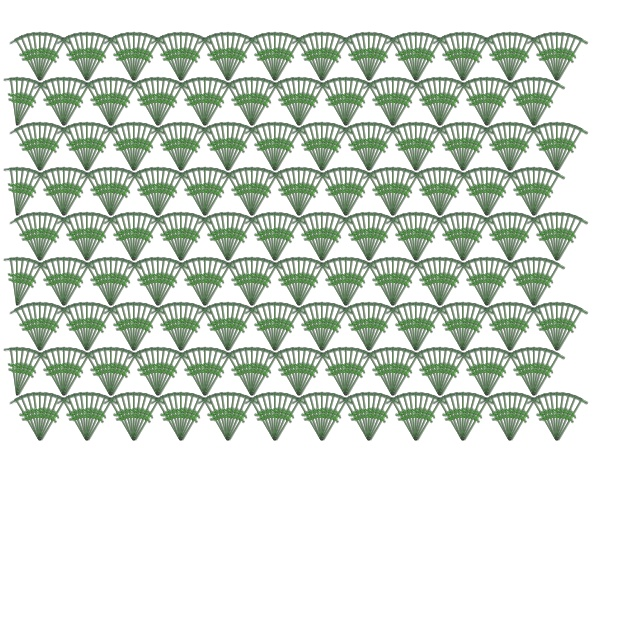fan: (8, 34, 47, 86), (33, 34, 72, 86), (55, 34, 94, 86), (80, 34, 119, 86), (102, 34, 141, 86), (127, 34, 166, 86), (149, 34, 188, 86), (174, 34, 213, 86), (196, 34, 235, 86), (221, 34, 260, 86), (243, 34, 282, 86), (268, 34, 307, 86), (290, 34, 329, 86), (315, 34, 354, 86), (337, 34, 376, 86), (362, 34, 401, 86), (384, 34, 423, 86), (409, 34, 448, 86), (431, 34, 470, 86), (456, 34, 495, 86), (478, 34, 517, 86), (503, 34, 542, 86), (525, 34, 564, 86), (550, 34, 589, 86), (10, 79, 49, 131), (32, 79, 71, 131), (57, 79, 96, 131), (79, 79, 118, 131), (104, 79, 143, 131), (126, 79, 165, 131), (151, 79, 190, 131), (173, 79, 212, 131), (198, 79, 237, 131), (220, 79, 259, 131), (245, 79, 284, 131), (267, 79, 306, 131), (292, 79, 331, 131), (314, 79, 353, 131), (339, 79, 378, 131), (361, 79, 400, 131), (386, 79, 425, 131), (408, 79, 447, 131), (433, 79, 472, 131), (455, 79, 494, 131), (480, 79, 519, 131), (502, 79, 541, 131), (527, 79, 566, 131), (8, 124, 47, 176), (33, 124, 72, 176), (55, 124, 94, 176), (80, 124, 119, 176), (102, 124, 141, 176), (127, 124, 166, 176), (149, 124, 188, 176), (174, 124, 213, 176), (196, 124, 235, 176), (221, 124, 260, 176), (243, 124, 282, 176), (268, 124, 307, 176), (290, 124, 329, 176), (315, 124, 354, 176), (337, 124, 376, 176), (362, 124, 401, 176), (384, 124, 423, 176), (409, 124, 448, 176), (431, 124, 470, 176), (456, 124, 495, 176), (478, 124, 517, 176), (503, 124, 542, 176), (525, 124, 564, 176), (550, 124, 589, 176), (10, 169, 49, 221), (32, 169, 71, 221), (57, 169, 96, 221), (79, 169, 118, 221), (104, 169, 143, 221), (126, 169, 165, 221), (151, 169, 190, 221), (173, 169, 212, 221), (198, 169, 237, 221), (220, 169, 259, 221), (245, 169, 284, 221), (267, 169, 306, 221), (292, 169, 331, 221), (314, 169, 353, 221), (339, 169, 378, 221), (361, 169, 400, 221), (386, 169, 425, 221), (408, 169, 447, 221), (433, 169, 472, 221), (455, 169, 494, 221), (480, 169, 519, 221), (502, 169, 541, 221), (527, 169, 566, 221), (8, 214, 47, 266), (33, 214, 72, 266), (55, 214, 94, 266), (80, 214, 119, 266), (102, 214, 141, 266), (127, 214, 166, 266), (149, 214, 188, 266), (174, 214, 213, 266), (196, 214, 235, 266), (221, 214, 260, 266), (243, 214, 282, 266), (268, 214, 307, 266), (290, 214, 329, 266), (315, 214, 354, 266), (337, 214, 376, 266), (362, 214, 401, 266), (384, 214, 423, 266), (409, 214, 448, 266), (431, 214, 470, 266), (456, 214, 495, 266), (478, 214, 517, 266), (503, 214, 542, 266), (525, 214, 564, 266), (550, 214, 589, 266), (10, 259, 49, 311), (32, 259, 71, 311), (57, 259, 96, 311), (79, 259, 118, 311), (104, 259, 143, 311), (126, 259, 165, 311), (151, 259, 190, 311), (173, 259, 212, 311), (198, 259, 237, 311), (220, 259, 259, 311), (245, 259, 284, 311), (267, 259, 306, 311), (292, 259, 331, 311), (314, 259, 353, 311), (339, 259, 378, 311), (361, 259, 400, 311), (386, 259, 425, 311), (408, 259, 447, 311), (433, 259, 472, 311), (455, 259, 494, 311), (480, 259, 519, 311), (502, 259, 541, 311), (527, 259, 566, 311), (8, 304, 47, 356), (33, 304, 72, 356), (55, 304, 94, 356), (80, 304, 119, 356), (102, 304, 141, 356), (127, 304, 166, 356), (149, 304, 188, 356), (174, 304, 213, 356), (196, 304, 235, 356), (221, 304, 260, 356), (243, 304, 282, 356), (268, 304, 307, 356), (290, 304, 329, 356), (315, 304, 354, 356), (337, 304, 376, 356), (362, 304, 401, 356), (384, 304, 423, 356), (409, 304, 448, 356), (431, 304, 470, 356), (456, 304, 495, 356), (478, 304, 517, 356), (503, 304, 542, 356), (525, 304, 564, 356), (550, 304, 589, 356), (10, 349, 49, 401), (32, 349, 71, 401), (57, 349, 96, 401), (79, 349, 118, 401), (104, 349, 143, 401), (126, 349, 165, 401), (151, 349, 190, 401), (173, 349, 212, 401), (198, 349, 237, 401), (220, 349, 259, 401), (245, 349, 284, 401), (267, 349, 306, 401), (292, 349, 331, 401), (314, 349, 353, 401), (339, 349, 378, 401), (361, 349, 400, 401), (386, 349, 425, 401), (408, 349, 447, 401), (433, 349, 472, 401), (455, 349, 494, 401), (480, 349, 519, 401), (502, 349, 541, 401), (527, 349, 566, 401), (8, 394, 47, 446), (33, 394, 72, 446), (55, 394, 94, 446), (80, 394, 119, 446), (102, 394, 141, 446), (127, 394, 166, 446), (149, 394, 188, 446), (174, 394, 213, 446), (196, 394, 235, 446), (221, 394, 260, 446), (243, 394, 282, 446), (268, 394, 307, 446), (290, 394, 329, 446), (315, 394, 354, 446), (337, 394, 376, 446), (362, 394, 401, 446), (384, 394, 423, 446), (409, 394, 448, 446), (431, 394, 470, 446), (456, 394, 495, 446), (478, 394, 517, 446), (503, 394, 542, 446), (525, 394, 564, 446), (550, 394, 589, 446), (13, 33, 48, 85), (32, 33, 67, 85), (60, 33, 95, 85), (79, 33, 114, 85), (107, 33, 142, 85), (126, 33, 161, 85), (154, 33, 189, 85), (173, 33, 208, 85), (201, 33, 236, 85), (220, 33, 255, 85), (248, 33, 283, 85), (267, 33, 302, 85), (295, 33, 330, 85), (314, 33, 349, 85), (342, 33, 377, 85), (361, 33, 396, 85), (389, 33, 424, 85), (408, 33, 443, 85), (436, 33, 471, 85), (455, 33, 490, 85), (483, 33, 518, 85), (502, 33, 537, 85), (530, 33, 565, 85), (549, 33, 584, 85), (9, 78, 44, 130), (37, 78, 72, 130), (56, 78, 91, 130), (84, 78, 119, 130), (103, 78, 138, 130), (131, 78, 166, 130), (150, 78, 185, 130), (178, 78, 213, 130), (197, 78, 232, 130), (225, 78, 260, 130), (244, 78, 279, 130), (272, 78, 307, 130), (291, 78, 326, 130), (319, 78, 354, 130), (338, 78, 373, 130), (366, 78, 401, 130), (385, 78, 420, 130), (413, 78, 448, 130), (432, 78, 467, 130), (460, 78, 495, 130), (479, 78, 514, 130), (507, 78, 542, 130), (526, 78, 561, 130), (13, 123, 48, 175), (32, 123, 67, 175), (60, 123, 95, 175), (79, 123, 114, 175), (107, 123, 142, 175), (126, 123, 161, 175), (154, 123, 189, 175), (173, 123, 208, 175), (201, 123, 236, 175), (220, 123, 255, 175), (248, 123, 283, 175), (267, 123, 302, 175), (295, 123, 330, 175), (314, 123, 349, 175), (342, 123, 377, 175), (361, 123, 396, 175), (389, 123, 424, 175), (408, 123, 443, 175), (436, 123, 471, 175), (455, 123, 490, 175), (483, 123, 518, 175), (502, 123, 537, 175), (530, 123, 565, 175), (549, 123, 584, 175), (9, 168, 44, 220), (37, 168, 72, 220), (56, 168, 91, 220), (84, 168, 119, 220), (103, 168, 138, 220), (131, 168, 166, 220), (150, 168, 185, 220), (178, 168, 213, 220), (197, 168, 232, 220), (225, 168, 260, 220), (244, 168, 279, 220), (272, 168, 307, 220), (291, 168, 326, 220), (319, 168, 354, 220), (338, 168, 373, 220), (366, 168, 401, 220), (385, 168, 420, 220), (413, 168, 448, 220), (432, 168, 467, 220), (460, 168, 495, 220), (479, 168, 514, 220), (507, 168, 542, 220), (526, 168, 561, 220), (13, 213, 48, 265), (32, 213, 67, 265), (60, 213, 95, 265), (79, 213, 114, 265), (107, 213, 142, 265), (126, 213, 161, 265), (154, 213, 189, 265), (173, 213, 208, 265), (201, 213, 236, 265), (220, 213, 255, 265), (248, 213, 283, 265), (267, 213, 302, 265), (295, 213, 330, 265), (314, 213, 349, 265), (342, 213, 377, 265), (361, 213, 396, 265), (389, 213, 424, 265), (408, 213, 443, 265), (436, 213, 471, 265), (455, 213, 490, 265), (483, 213, 518, 265), (502, 213, 537, 265), (530, 213, 565, 265), (549, 213, 584, 265), (9, 258, 44, 310), (37, 258, 72, 310), (56, 258, 91, 310), (84, 258, 119, 310), (103, 258, 138, 310), (131, 258, 166, 310), (150, 258, 185, 310), (178, 258, 213, 310), (197, 258, 232, 310), (225, 258, 260, 310), (244, 258, 279, 310), (272, 258, 307, 310), (291, 258, 326, 310), (319, 258, 354, 310), (338, 258, 373, 310), (366, 258, 401, 310), (385, 258, 420, 310), (413, 258, 448, 310), (432, 258, 467, 310), (460, 258, 495, 310), (479, 258, 514, 310), (507, 258, 542, 310), (526, 258, 561, 310), (13, 303, 48, 355), (32, 303, 67, 355), (60, 303, 95, 355), (79, 303, 114, 355), (107, 303, 142, 355), (126, 303, 161, 355), (154, 303, 189, 355), (173, 303, 208, 355), (201, 303, 236, 355), (220, 303, 255, 355), (248, 303, 283, 355), (267, 303, 302, 355), (295, 303, 330, 355), (314, 303, 349, 355), (342, 303, 377, 355), (361, 303, 396, 355), (389, 303, 424, 355), (408, 303, 443, 355), (436, 303, 471, 355), (455, 303, 490, 355), (483, 303, 518, 355), (502, 303, 537, 355), (530, 303, 565, 355), (549, 303, 584, 355), (9, 348, 44, 400), (37, 348, 72, 400), (56, 348, 91, 400), (84, 348, 119, 400), (103, 348, 138, 400), (131, 348, 166, 400), (150, 348, 185, 400), (178, 348, 213, 400), (197, 348, 232, 400), (225, 348, 260, 400), (244, 348, 279, 400), (272, 348, 307, 400), (291, 348, 326, 400), (319, 348, 354, 400), (338, 348, 373, 400), (366, 348, 401, 400), (385, 348, 420, 400), (413, 348, 448, 400), (432, 348, 467, 400), (460, 348, 495, 400), (479, 348, 514, 400), (507, 348, 542, 400), (526, 348, 561, 400), (13, 393, 48, 445), (32, 393, 67, 445), (60, 393, 95, 445), (79, 393, 114, 445), (107, 393, 142, 445), (126, 393, 161, 445), (154, 393, 189, 445), (173, 393, 208, 445), (201, 393, 236, 445), (220, 393, 255, 445), (248, 393, 283, 445), (267, 393, 302, 445), (295, 393, 330, 445), (314, 393, 349, 445), (342, 393, 377, 445), (361, 393, 396, 445), (389, 393, 424, 445), (408, 393, 443, 445), (436, 393, 471, 445), (455, 393, 490, 445), (483, 393, 518, 445), (502, 393, 537, 445), (530, 393, 565, 445), (549, 393, 584, 445), (19, 32, 48, 84), (32, 32, 61, 84), (66, 32, 95, 84), (79, 32, 108, 84), (113, 32, 142, 84), (126, 32, 155, 84), (160, 32, 189, 84), (173, 32, 202, 84), (207, 32, 236, 84), (220, 32, 249, 84), (254, 32, 283, 84), (267, 32, 296, 84), (301, 32, 330, 84), (314, 32, 343, 84), (348, 32, 377, 84), (361, 32, 390, 84), (395, 32, 424, 84), (408, 32, 437, 84), (442, 32, 471, 84), (455, 32, 484, 84), (489, 32, 518, 84), (502, 32, 531, 84), (536, 32, 565, 84), (549, 32, 578, 84), (9, 77, 38, 129), (43, 77, 72, 129), (56, 77, 85, 129), (90, 77, 119, 129), (103, 77, 132, 129), (137, 77, 166, 129), (150, 77, 179, 129), (184, 77, 213, 129), (197, 77, 226, 129), (231, 77, 260, 129), (244, 77, 273, 129), (278, 77, 307, 129), (291, 77, 320, 129), (325, 77, 354, 129), (338, 77, 367, 129), (372, 77, 401, 129), (385, 77, 414, 129), (419, 77, 448, 129), (432, 77, 461, 129), (466, 77, 495, 129), (479, 77, 508, 129), (513, 77, 542, 129), (526, 77, 555, 129), (19, 122, 48, 174), (32, 122, 61, 174), (66, 122, 95, 174), (79, 122, 108, 174), (113, 122, 142, 174), (126, 122, 155, 174), (160, 122, 189, 174), (173, 122, 202, 174), (207, 122, 236, 174), (220, 122, 249, 174), (254, 122, 283, 174), (267, 122, 296, 174), (301, 122, 330, 174), (314, 122, 343, 174), (348, 122, 377, 174), (361, 122, 390, 174), (395, 122, 424, 174), (408, 122, 437, 174), (442, 122, 471, 174), (455, 122, 484, 174), (489, 122, 518, 174), (502, 122, 531, 174), (536, 122, 565, 174), (549, 122, 578, 174), (9, 167, 38, 219), (43, 167, 72, 219), (56, 167, 85, 219), (90, 167, 119, 219), (103, 167, 132, 219), (137, 167, 166, 219), (150, 167, 179, 219), (184, 167, 213, 219), (197, 167, 226, 219), (231, 167, 260, 219), (244, 167, 273, 219), (278, 167, 307, 219), (291, 167, 320, 219), (325, 167, 354, 219), (338, 167, 367, 219), (372, 167, 401, 219), (385, 167, 414, 219), (419, 167, 448, 219), (432, 167, 461, 219), (466, 167, 495, 219), (479, 167, 508, 219), (513, 167, 542, 219), (526, 167, 555, 219), (19, 212, 48, 264), (32, 212, 61, 264), (66, 212, 95, 264), (79, 212, 108, 264), (113, 212, 142, 264), (126, 212, 155, 264), (160, 212, 189, 264), (173, 212, 202, 264), (207, 212, 236, 264), (220, 212, 249, 264), (254, 212, 283, 264), (267, 212, 296, 264), (301, 212, 330, 264), (314, 212, 343, 264), (348, 212, 377, 264), (361, 212, 390, 264), (395, 212, 424, 264), (408, 212, 437, 264), (442, 212, 471, 264), (455, 212, 484, 264), (489, 212, 518, 264), (502, 212, 531, 264), (536, 212, 565, 264), (549, 212, 578, 264), (9, 257, 38, 309), (43, 257, 72, 309), (56, 257, 85, 309), (90, 257, 119, 309), (103, 257, 132, 309), (137, 257, 166, 309), (150, 257, 179, 309), (184, 257, 213, 309), (197, 257, 226, 309), (231, 257, 260, 309), (244, 257, 273, 309), (278, 257, 307, 309), (291, 257, 320, 309), (325, 257, 354, 309), (338, 257, 367, 309), (372, 257, 401, 309), (385, 257, 414, 309), (419, 257, 448, 309), (432, 257, 461, 309), (466, 257, 495, 309), (479, 257, 508, 309), (513, 257, 542, 309), (526, 257, 555, 309), (19, 302, 48, 354), (32, 302, 61, 354), (66, 302, 95, 354), (79, 302, 108, 354), (113, 302, 142, 354), (126, 302, 155, 354), (160, 302, 189, 354), (173, 302, 202, 354), (207, 302, 236, 354), (220, 302, 249, 354), (254, 302, 283, 354), (267, 302, 296, 354), (301, 302, 330, 354), (314, 302, 343, 354), (348, 302, 377, 354), (361, 302, 390, 354), (395, 302, 424, 354), (408, 302, 437, 354), (442, 302, 471, 354), (455, 302, 484, 354), (489, 302, 518, 354), (502, 302, 531, 354), (536, 302, 565, 354), (549, 302, 578, 354), (9, 347, 38, 399), (43, 347, 72, 399), (56, 347, 85, 399), (90, 347, 119, 399), (103, 347, 132, 399), (137, 347, 166, 399), (150, 347, 179, 399), (184, 347, 213, 399), (197, 347, 226, 399), (231, 347, 260, 399), (244, 347, 273, 399), (278, 347, 307, 399), (291, 347, 320, 399), (325, 347, 354, 399), (338, 347, 367, 399), (372, 347, 401, 399), (385, 347, 414, 399), (419, 347, 448, 399), (432, 347, 461, 399), (466, 347, 495, 399), (479, 347, 508, 399), (513, 347, 542, 399), (526, 347, 555, 399), (19, 392, 48, 444), (32, 392, 61, 444), (66, 392, 95, 444), (79, 392, 108, 444), (113, 392, 142, 444), (126, 392, 155, 444), (160, 392, 189, 444), (173, 392, 202, 444), (207, 392, 236, 444), (220, 392, 249, 444), (254, 392, 283, 444), (267, 392, 296, 444), (301, 392, 330, 444), (314, 392, 343, 444), (348, 392, 377, 444), (361, 392, 390, 444), (395, 392, 424, 444), (408, 392, 437, 444), (442, 392, 471, 444), (455, 392, 484, 444), (489, 392, 518, 444), (502, 392, 531, 444), (536, 392, 565, 444), (549, 392, 578, 444), (25, 31, 48, 83), (32, 31, 55, 83), (72, 31, 95, 83), (79, 31, 102, 83), (119, 31, 142, 83), (126, 31, 149, 83), (166, 31, 189, 83), (173, 31, 196, 83), (213, 31, 236, 83), (220, 31, 243, 83), (260, 31, 283, 83), (267, 31, 290, 83), (307, 31, 330, 83), (314, 31, 337, 83), (354, 31, 377, 83), (361, 31, 384, 83), (401, 31, 424, 83), (408, 31, 431, 83), (448, 31, 471, 83), (455, 31, 478, 83), (495, 31, 518, 83), (502, 31, 525, 83), (542, 31, 565, 83), (549, 31, 572, 83), (2, 76, 25, 128), (9, 76, 32, 128), (49, 76, 72, 128), (56, 76, 79, 128), (96, 76, 119, 128), (103, 76, 126, 128), (143, 76, 166, 128), (150, 76, 173, 128), (190, 76, 213, 128), (197, 76, 220, 128), (237, 76, 260, 128), (244, 76, 267, 128), (284, 76, 307, 128), (291, 76, 314, 128), (331, 76, 354, 128), (338, 76, 361, 128), (378, 76, 401, 128), (385, 76, 408, 128), (425, 76, 448, 128), (432, 76, 455, 128), (472, 76, 495, 128), (479, 76, 502, 128), (519, 76, 542, 128), (526, 76, 549, 128), (25, 121, 48, 173), (32, 121, 55, 173), (72, 121, 95, 173), (79, 121, 102, 173), (119, 121, 142, 173), (126, 121, 149, 173), (166, 121, 189, 173), (173, 121, 196, 173), (213, 121, 236, 173), (220, 121, 243, 173), (260, 121, 283, 173), (267, 121, 290, 173), (307, 121, 330, 173), (314, 121, 337, 173), (354, 121, 377, 173), (361, 121, 384, 173), (401, 121, 424, 173), (408, 121, 431, 173), (448, 121, 471, 173), (455, 121, 478, 173), (495, 121, 518, 173), (502, 121, 525, 173), (542, 121, 565, 173), (549, 121, 572, 173), (2, 166, 25, 218), (9, 166, 32, 218), (49, 166, 72, 218), (56, 166, 79, 218), (96, 166, 119, 218), (103, 166, 126, 218), (143, 166, 166, 218), (150, 166, 173, 218), (190, 166, 213, 218), (197, 166, 220, 218), (237, 166, 260, 218), (244, 166, 267, 218), (284, 166, 307, 218), (291, 166, 314, 218), (331, 166, 354, 218), (338, 166, 361, 218), (378, 166, 401, 218), (385, 166, 408, 218), (425, 166, 448, 218), (432, 166, 455, 218), (472, 166, 495, 218), (479, 166, 502, 218), (519, 166, 542, 218), (526, 166, 549, 218), (25, 211, 48, 263), (32, 211, 55, 263), (72, 211, 95, 263), (79, 211, 102, 263), (119, 211, 142, 263), (126, 211, 149, 263), (166, 211, 189, 263), (173, 211, 196, 263), (213, 211, 236, 263), (220, 211, 243, 263), (260, 211, 283, 263), (267, 211, 290, 263), (307, 211, 330, 263), (314, 211, 337, 263), (354, 211, 377, 263), (361, 211, 384, 263), (401, 211, 424, 263), (408, 211, 431, 263), (448, 211, 471, 263), (455, 211, 478, 263), (495, 211, 518, 263), (502, 211, 525, 263), (542, 211, 565, 263), (549, 211, 572, 263), (2, 256, 25, 308), (9, 256, 32, 308), (49, 256, 72, 308), (56, 256, 79, 308), (96, 256, 119, 308), (103, 256, 126, 308), (143, 256, 166, 308), (150, 256, 173, 308), (190, 256, 213, 308), (197, 256, 220, 308), (237, 256, 260, 308), (244, 256, 267, 308), (284, 256, 307, 308), (291, 256, 314, 308), (331, 256, 354, 308), (338, 256, 361, 308), (378, 256, 401, 308), (385, 256, 408, 308), (425, 256, 448, 308), (432, 256, 455, 308), (472, 256, 495, 308), (479, 256, 502, 308), (519, 256, 542, 308), (526, 256, 549, 308), (25, 301, 48, 353), (32, 301, 55, 353), (72, 301, 95, 353), (79, 301, 102, 353), (119, 301, 142, 353), (126, 301, 149, 353), (166, 301, 189, 353), (173, 301, 196, 353), (213, 301, 236, 353), (220, 301, 243, 353), (260, 301, 283, 353), (267, 301, 290, 353), (307, 301, 330, 353), (314, 301, 337, 353), (354, 301, 377, 353), (361, 301, 384, 353), (401, 301, 424, 353), (408, 301, 431, 353), (448, 301, 471, 353), (455, 301, 478, 353), (495, 301, 518, 353), (502, 301, 525, 353), (542, 301, 565, 353), (549, 301, 572, 353), (2, 346, 25, 398), (9, 346, 32, 398), (49, 346, 72, 398), (56, 346, 79, 398), (96, 346, 119, 398), (103, 346, 126, 398), (143, 346, 166, 398), (150, 346, 173, 398), (190, 346, 213, 398), (197, 346, 220, 398), (237, 346, 260, 398), (244, 346, 267, 398), (284, 346, 307, 398), (291, 346, 314, 398), (331, 346, 354, 398), (338, 346, 361, 398), (378, 346, 401, 398), (385, 346, 408, 398), (425, 346, 448, 398), (432, 346, 455, 398), (472, 346, 495, 398), (479, 346, 502, 398), (519, 346, 542, 398), (526, 346, 549, 398), (25, 391, 48, 443), (32, 391, 55, 443), (72, 391, 95, 443), (79, 391, 102, 443), (119, 391, 142, 443), (126, 391, 149, 443), (166, 391, 189, 443), (173, 391, 196, 443), (213, 391, 236, 443), (220, 391, 243, 443), (260, 391, 283, 443), (267, 391, 290, 443), (307, 391, 330, 443), (314, 391, 337, 443), (354, 391, 377, 443), (361, 391, 384, 443), (401, 391, 424, 443), (408, 391, 431, 443), (448, 391, 471, 443), (455, 391, 478, 443), (495, 391, 518, 443), (502, 391, 525, 443), (542, 391, 565, 443), (549, 391, 572, 443), (78, 32, 96, 82), (172, 32, 190, 82), (266, 32, 284, 82), (360, 32, 378, 82), (454, 32, 472, 82), (548, 32, 566, 82), (8, 77, 26, 127), (102, 77, 120, 127), (196, 77, 214, 127), (290, 77, 308, 127), (384, 77, 402, 127), (478, 77, 496, 127), (78, 122, 96, 172), (172, 122, 190, 172), (266, 122, 284, 172), (360, 122, 378, 172), (454, 122, 472, 172), (548, 122, 566, 172), (8, 167, 26, 217), (102, 167, 120, 217), (196, 167, 214, 217), (290, 167, 308, 217), (384, 167, 402, 217), (478, 167, 496, 217), (78, 212, 96, 262), (172, 212, 190, 262), (266, 212, 284, 262), (360, 212, 378, 262), (454, 212, 472, 262), (548, 212, 566, 262), (8, 257, 26, 307), (102, 257, 120, 307), (196, 257, 214, 307), (290, 257, 308, 307), (384, 257, 402, 307), (478, 257, 496, 307), (78, 302, 96, 352), (172, 302, 190, 352), (266, 302, 284, 352), (360, 302, 378, 352), (454, 302, 472, 352), (548, 302, 566, 352), (8, 347, 26, 397), (102, 347, 120, 397), (196, 347, 214, 397), (290, 347, 308, 397), (384, 347, 402, 397), (478, 347, 496, 397), (78, 392, 96, 442), (172, 392, 190, 442), (266, 392, 284, 442), (360, 392, 378, 442), (454, 392, 472, 442), (548, 392, 566, 442), (32, 32, 48, 82), (126, 32, 142, 82), (220, 32, 236, 82), (314, 32, 330, 82), (408, 32, 424, 82), (502, 32, 518, 82), (56, 77, 72, 127), (150, 77, 166, 127), (244, 77, 260, 127), (338, 77, 354, 127), (432, 77, 448, 127), (526, 77, 542, 127), (32, 122, 48, 172), (126, 122, 142, 172), (220, 122, 236, 172), (314, 122, 330, 172), (408, 122, 424, 172), (502, 122, 518, 172), (56, 167, 72, 217), (150, 167, 166, 217), (244, 167, 260, 217), (338, 167, 354, 217), (432, 167, 448, 217), (526, 167, 542, 217), (32, 212, 48, 262), (126, 212, 142, 262), (220, 212, 236, 262), (314, 212, 330, 262), (408, 212, 424, 262), (502, 212, 518, 262), (56, 257, 72, 307), (150, 257, 166, 307), (244, 257, 260, 307), (338, 257, 354, 307), (432, 257, 448, 307), (526, 257, 542, 307), (32, 302, 48, 352), (126, 302, 142, 352), (220, 302, 236, 352), (314, 302, 330, 352), (408, 302, 424, 352), (502, 302, 518, 352), (56, 347, 72, 397), (150, 347, 166, 397), (244, 347, 260, 397), (338, 347, 354, 397), (432, 347, 448, 397), (526, 347, 542, 397), (32, 392, 48, 442), (126, 392, 142, 442), (220, 392, 236, 442), (314, 392, 330, 442), (408, 392, 424, 442), (502, 392, 518, 442)
